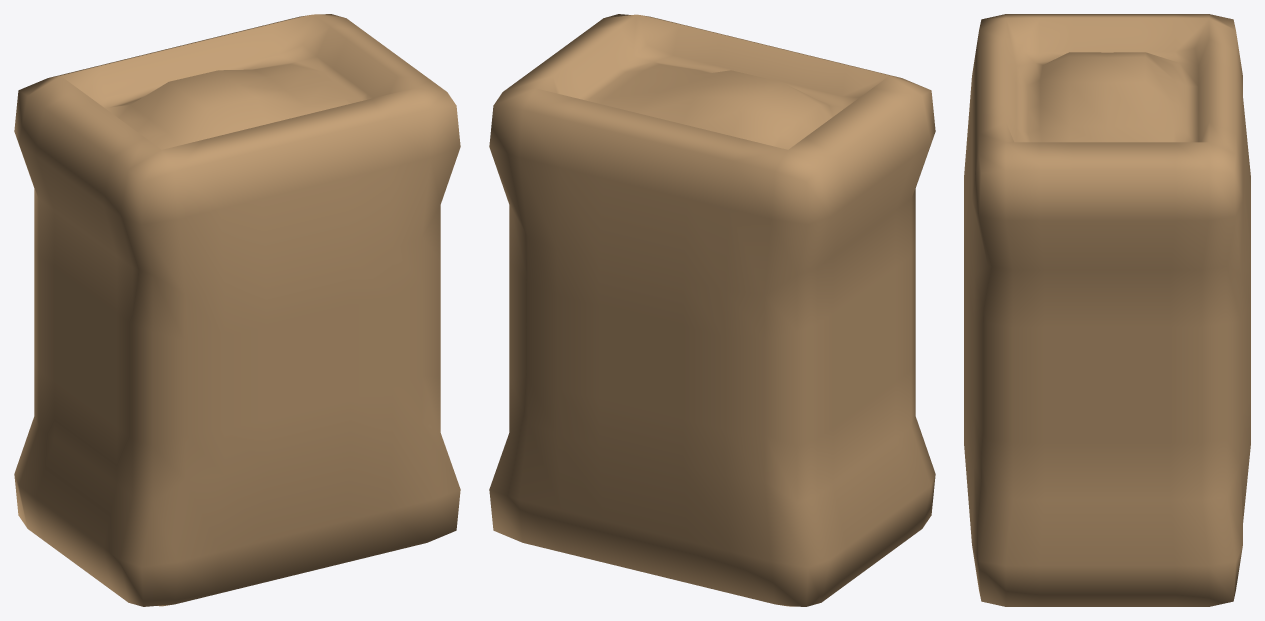
The model's file is sugar.fbx.
The picture shows the model from 3 angles, left to right: view 1: azimuth 30°, elevation 25°; view 2: azimuth 150°, elevation 25°; view 3: azimuth 270°, elevation 25°; orthographic projection.
Visible parts, largest first — view 1: Cube; view 2: Cube; view 3: Cube.
Part boxes in pixels (x1,y1,x2,y2): Cube: [14, 14, 460, 606]; Cube: [489, 14, 935, 606]; Cube: [964, 14, 1250, 606].
Size of the model in its own units: 200 by 259 by 147.
